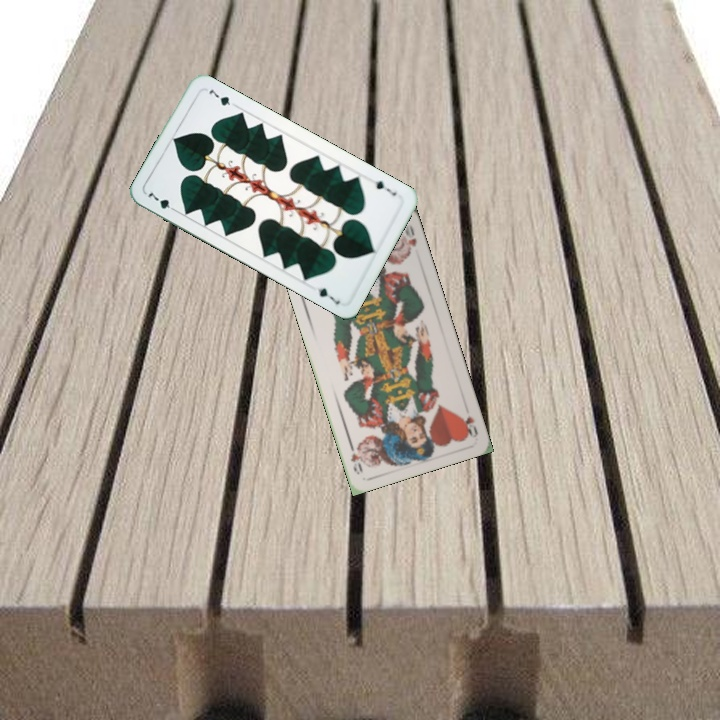G7: (143, 188, 180, 215), (371, 176, 399, 198)
HO: (457, 412, 481, 440)
